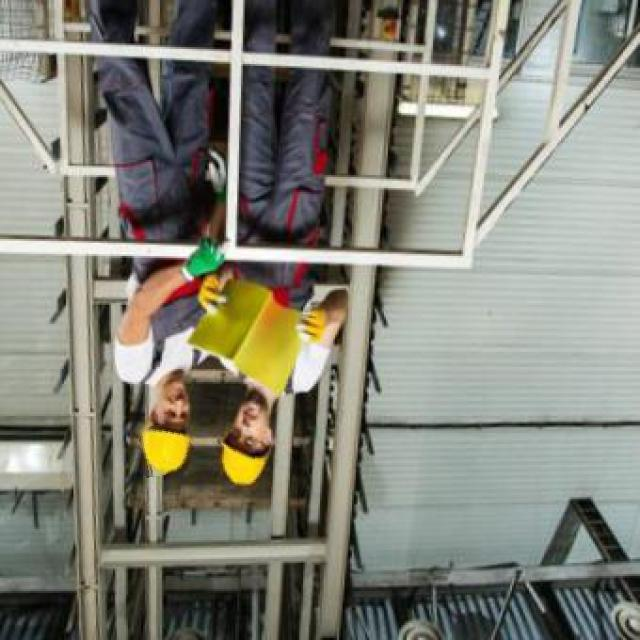helmet: (139, 422, 194, 476), (220, 438, 272, 488)
